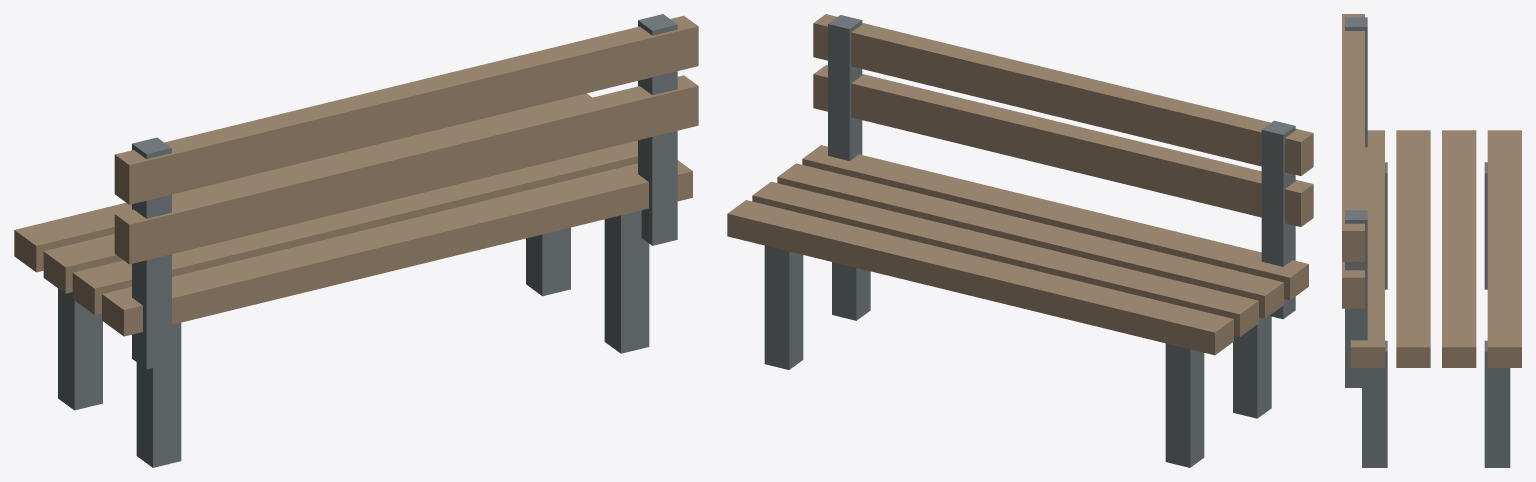
File: street_bench.glb
3 renders of one model, left to right at view 1: azimuth 30°, elevation 25°; view 2: azimuth 150°, elevation 25°; view 3: azimuth 270°, elevation 25°, orthographic. The views are drawn at different scales.
Visible parts, largest first — view 1: body; view 2: body; view 3: body.
Boxes of the visible parts, bbox=[...] form: body: bbox=[14, 14, 698, 467]; body: bbox=[727, 14, 1313, 467]; body: bbox=[1342, 14, 1521, 467].
Size of the model in its own units: 1.8 by 0.985 by 0.63.
